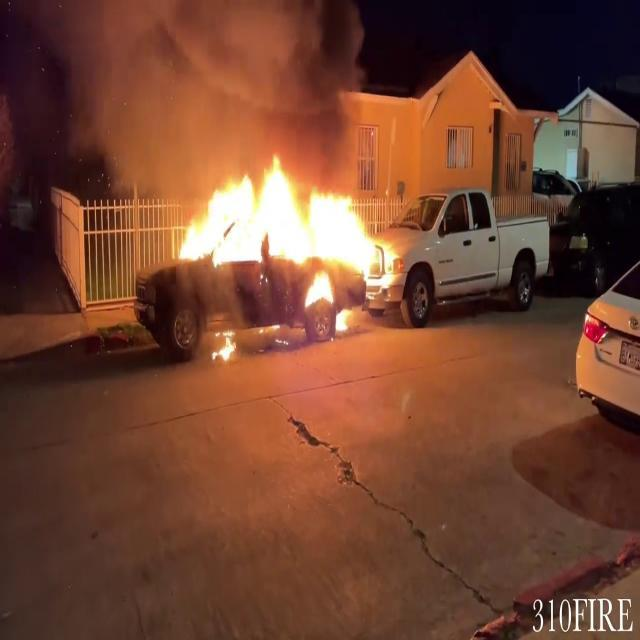Fire: (166, 150, 398, 313)
Smoke: (39, 0, 374, 169)
